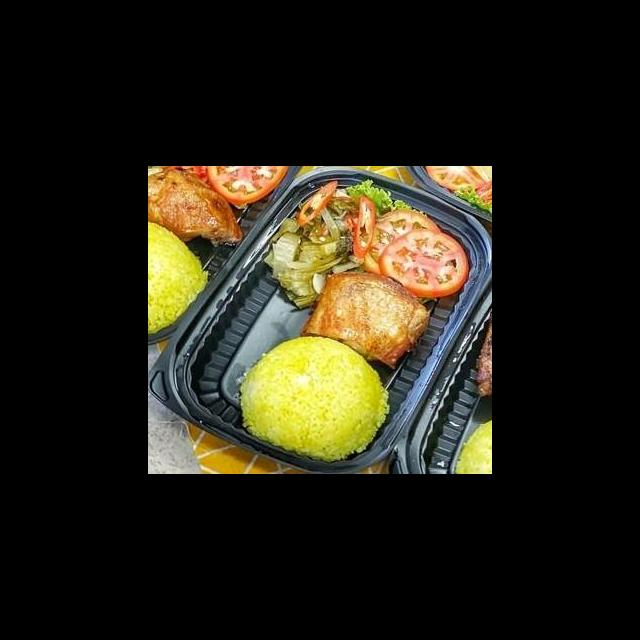com: (237, 332, 392, 466), (149, 219, 213, 337)
com ga: (148, 185, 469, 474)
dua chua: (260, 189, 386, 314)
thit ga: (297, 267, 433, 372), (149, 167, 247, 249)
